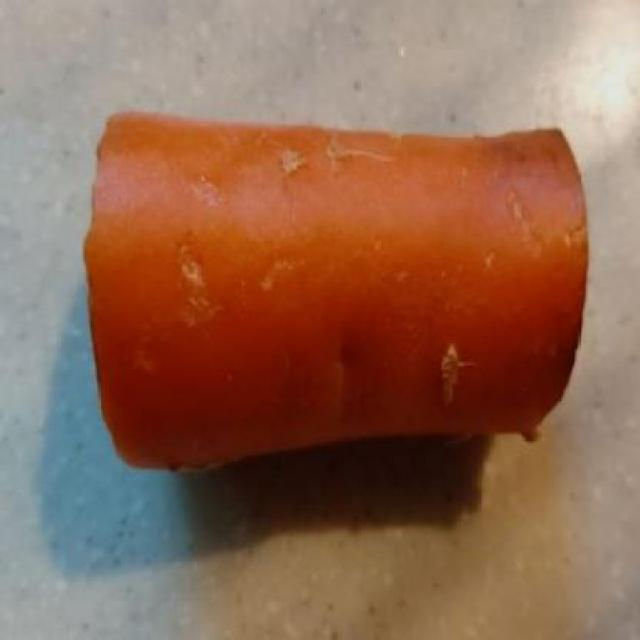carrot: (69, 94, 606, 494)
